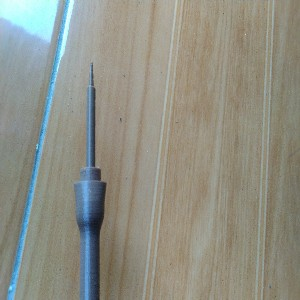solder: (71, 61, 108, 300)
